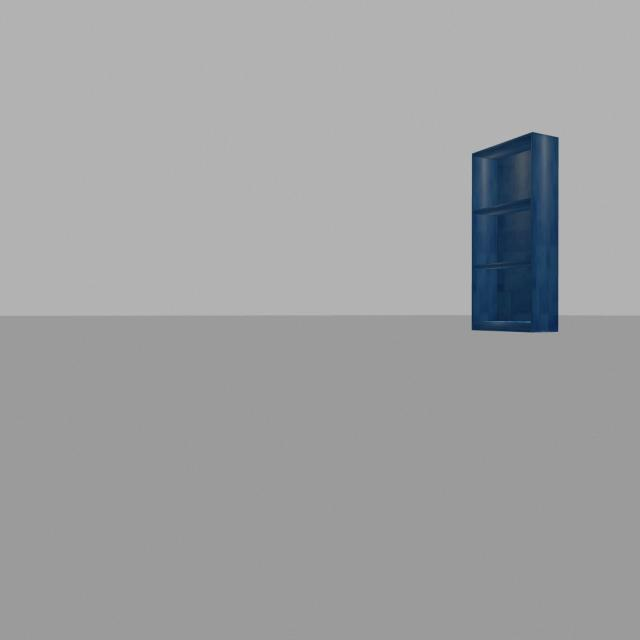shelf: (462, 128, 568, 345)
